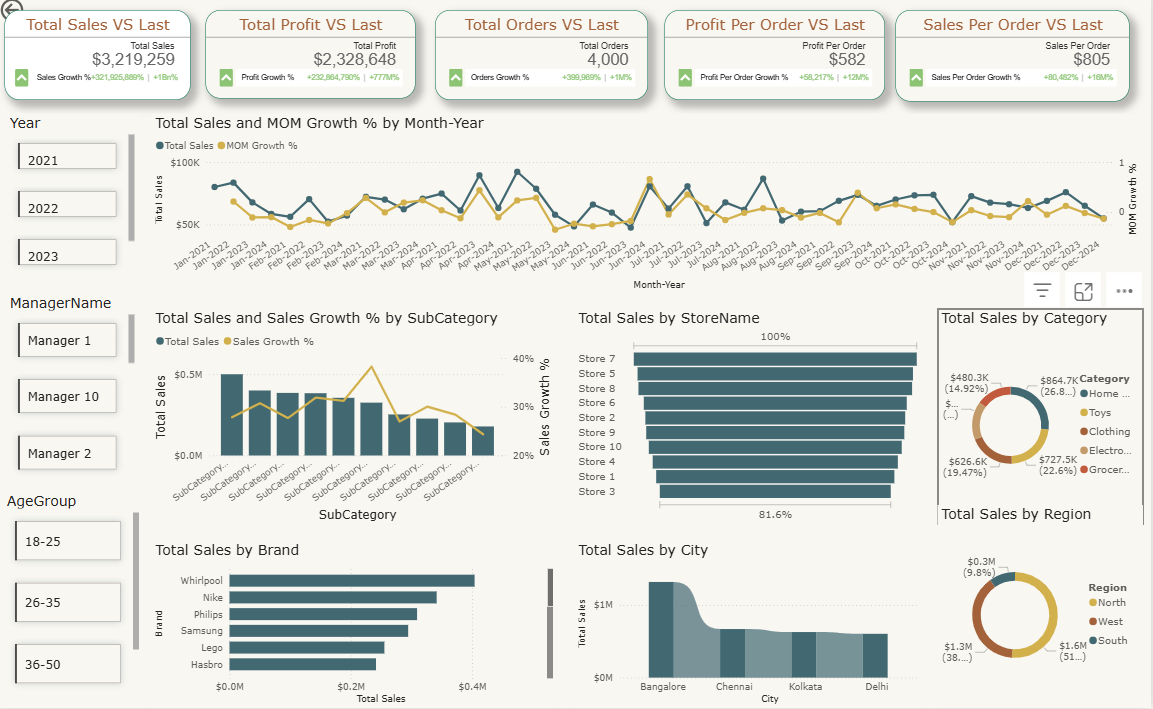

Layout of this report page (visuals, bound fields, positions):
{"tool":"powerbi","page":{"name":"Page 1","canvas":[1540,950],"ordinal":0},"visuals":[{"type":"actionButton","box":[0,0,100,40],"z":1},{"type":"kpifree51D0292A0438427096AC459B59FEF2DE","title":"Profit Per Order VS Last","fields":{"value":["All Measures.Profit Per Order"],"budget":["All Measures.Profit Per Order Growth %"]},"box":[890,20,294,120],"z":5},{"type":"kpifree51D0292A0438427096AC459B59FEF2DE","title":"Total Orders VS Last","fields":{"value":["All Measures.Total Orders"],"budget":["All Measures.Orders Growth %"]},"box":[584,20,284,120],"z":6},{"type":"kpifree51D0292A0438427096AC459B59FEF2DE","title":"Total Profit VS Last","fields":{"value":["All Measures.Total Profit"],"budget":["All Measures.Profit Growth %"]},"box":[278,20,280,118],"z":7},{"type":"kpifree51D0292A0438427096AC459B59FEF2DE","title":"Total Sales  VS Last","fields":{"value":["All Measures.Total Sales"],"budget":["All Measures.Sales Growth %"]},"box":[10,20,248,120],"z":8},{"type":"kpifree51D0292A0438427096AC459B59FEF2DE","title":"Sales Per Order VS Last","fields":{"value":["All Measures.Sales Per Order"],"budget":["All Measures.Sales Per Order Growth %"]},"box":[1198,20,312,122],"z":9},{"type":"lineChart","fields":{"Category":["Dim Date.Month-Year"],"Y":["All Measures.Total Sales"],"Y2":["All Measures.MOM Growth %"]},"box":[206,158,1322,240],"z":10},{"type":"lineStackedColumnComboChart","fields":{"Category":["Dim Products.SubCategory"],"Y":["All Measures.Total Sales"],"Y2":["All Measures.Sales Growth %"]},"box":[206,418,540,288],"z":11},{"type":"funnel","fields":{"Category":["Dim Stores.StoreName"],"Y":["All Measures.Total Sales"]},"box":[770,418,466,288],"z":12},{"type":"donutChart","fields":{"Category":["Dim Products.Category"],"Y":["All Measures.Total Sales"]},"box":[1254,418,274,288],"z":13},{"type":"clusteredBarChart","fields":{"Category":["Dim Products.Brand"],"Y":["All Measures.Total Sales"]},"box":[205,727.5,540,222.5],"z":14},{"type":"ribbonChart","fields":{"Y":["All Measures.Total Sales"],"Category":["Dim Stores.City"]},"box":[770,727.5,465,222.5],"z":15},{"type":"advancedSlicerVisual","fields":{"Values":["Dim Date.Year"]},"box":[12,158,176,218],"z":17},{"type":"advancedSlicerVisual","fields":{"Values":["Dim Stores.ManagerName"]},"box":[12,398,176,250],"z":18},{"type":"advancedSlicerVisual","fields":{"Values":["DimCustomers.AgeGroup"]},"box":[8,662,186,272],"z":19},{"type":"donutChart","fields":{"Category":["Dim Stores.Region"],"Y":["All Measures.Total Sales"]},"box":[1254,680,274,270],"z":20}]}

Visuals, with their boxes in screenshot pixels (x1, y1, x2, y2), scaled from the page's 1540x950 canvas onto the 1153x709 screenshot:
actionButton: bbox(0, 0, 75, 30)
"Profit Per Order VS Last" kpifree51D0292A0438427096AC459B59FEF2DE: bbox(666, 15, 886, 104)
"Total Orders VS Last" kpifree51D0292A0438427096AC459B59FEF2DE: bbox(437, 15, 650, 104)
"Total Profit VS Last" kpifree51D0292A0438427096AC459B59FEF2DE: bbox(208, 15, 418, 103)
"Total Sales  VS Last" kpifree51D0292A0438427096AC459B59FEF2DE: bbox(7, 15, 193, 104)
"Sales Per Order VS Last" kpifree51D0292A0438427096AC459B59FEF2DE: bbox(897, 15, 1131, 106)
lineChart - Dim Date.Month-Year x All Measures.Total Sales: bbox(154, 118, 1144, 297)
lineStackedColumnComboChart - Dim Products.SubCategory x All Measures.Total Sales: bbox(154, 312, 559, 527)
funnel - Dim Stores.StoreName x All Measures.Total Sales: bbox(576, 312, 925, 527)
donutChart - Dim Products.Category x All Measures.Total Sales: bbox(939, 312, 1144, 527)
clusteredBarChart - Dim Products.Brand x All Measures.Total Sales: bbox(153, 543, 558, 708)
ribbonChart - All Measures.Total Sales x Dim Stores.City: bbox(576, 543, 925, 708)
advancedSlicerVisual - Dim Date.Year: bbox(9, 118, 141, 281)
advancedSlicerVisual - Dim Stores.ManagerName: bbox(9, 297, 141, 484)
advancedSlicerVisual - DimCustomers.AgeGroup: bbox(6, 494, 145, 697)
donutChart - Dim Stores.Region x All Measures.Total Sales: bbox(939, 507, 1144, 708)
